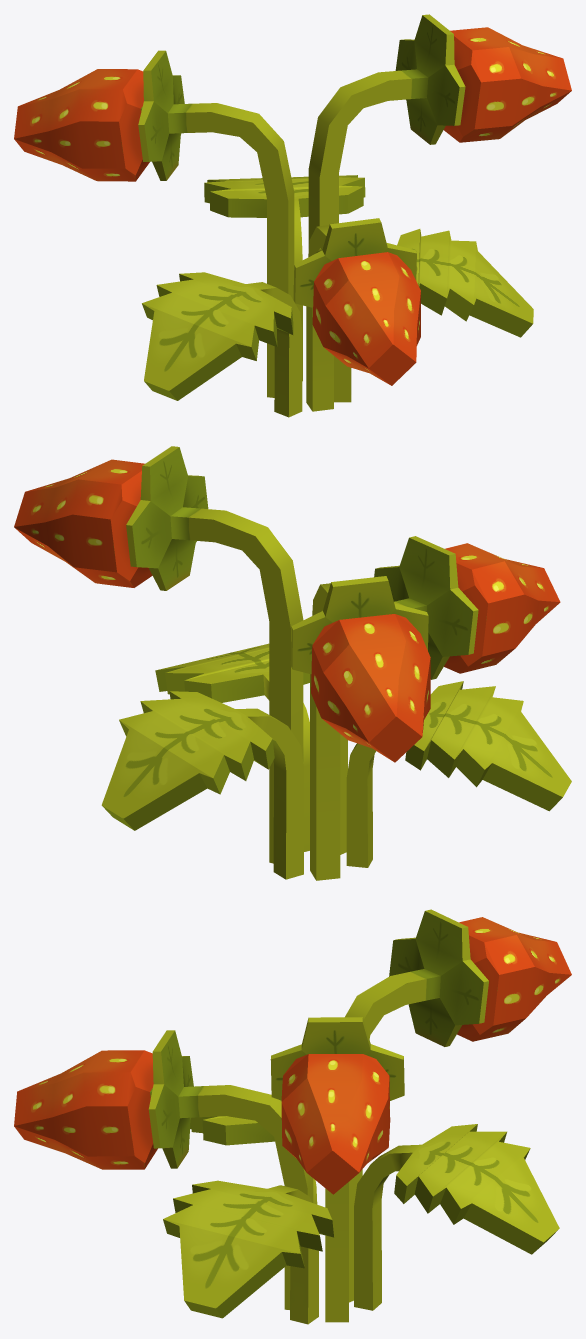
Rendered from maya2sketchfab.fbx.
3 views of the same model, one above another, from view 1: azimuth 30°, elevation 25°; view 2: azimuth 150°, elevation 25°; view 3: azimuth 270°, elevation 25° (orthographic). The views are drawn at different scales.
Visible parts, largest first — view 1: pasted__polySurface65; view 2: pasted__polySurface65; view 3: pasted__polySurface65.
Part boxes in pixels (<box>): pasted__polySurface65: <box>14,14,571,417</box>; pasted__polySurface65: <box>14,446,571,880</box>; pasted__polySurface65: <box>14,909,571,1324</box>.
Bounding box in the file's own units: 4.94 × 3.51 × 4.96.
Materials: 2 (2 with a texture image).
